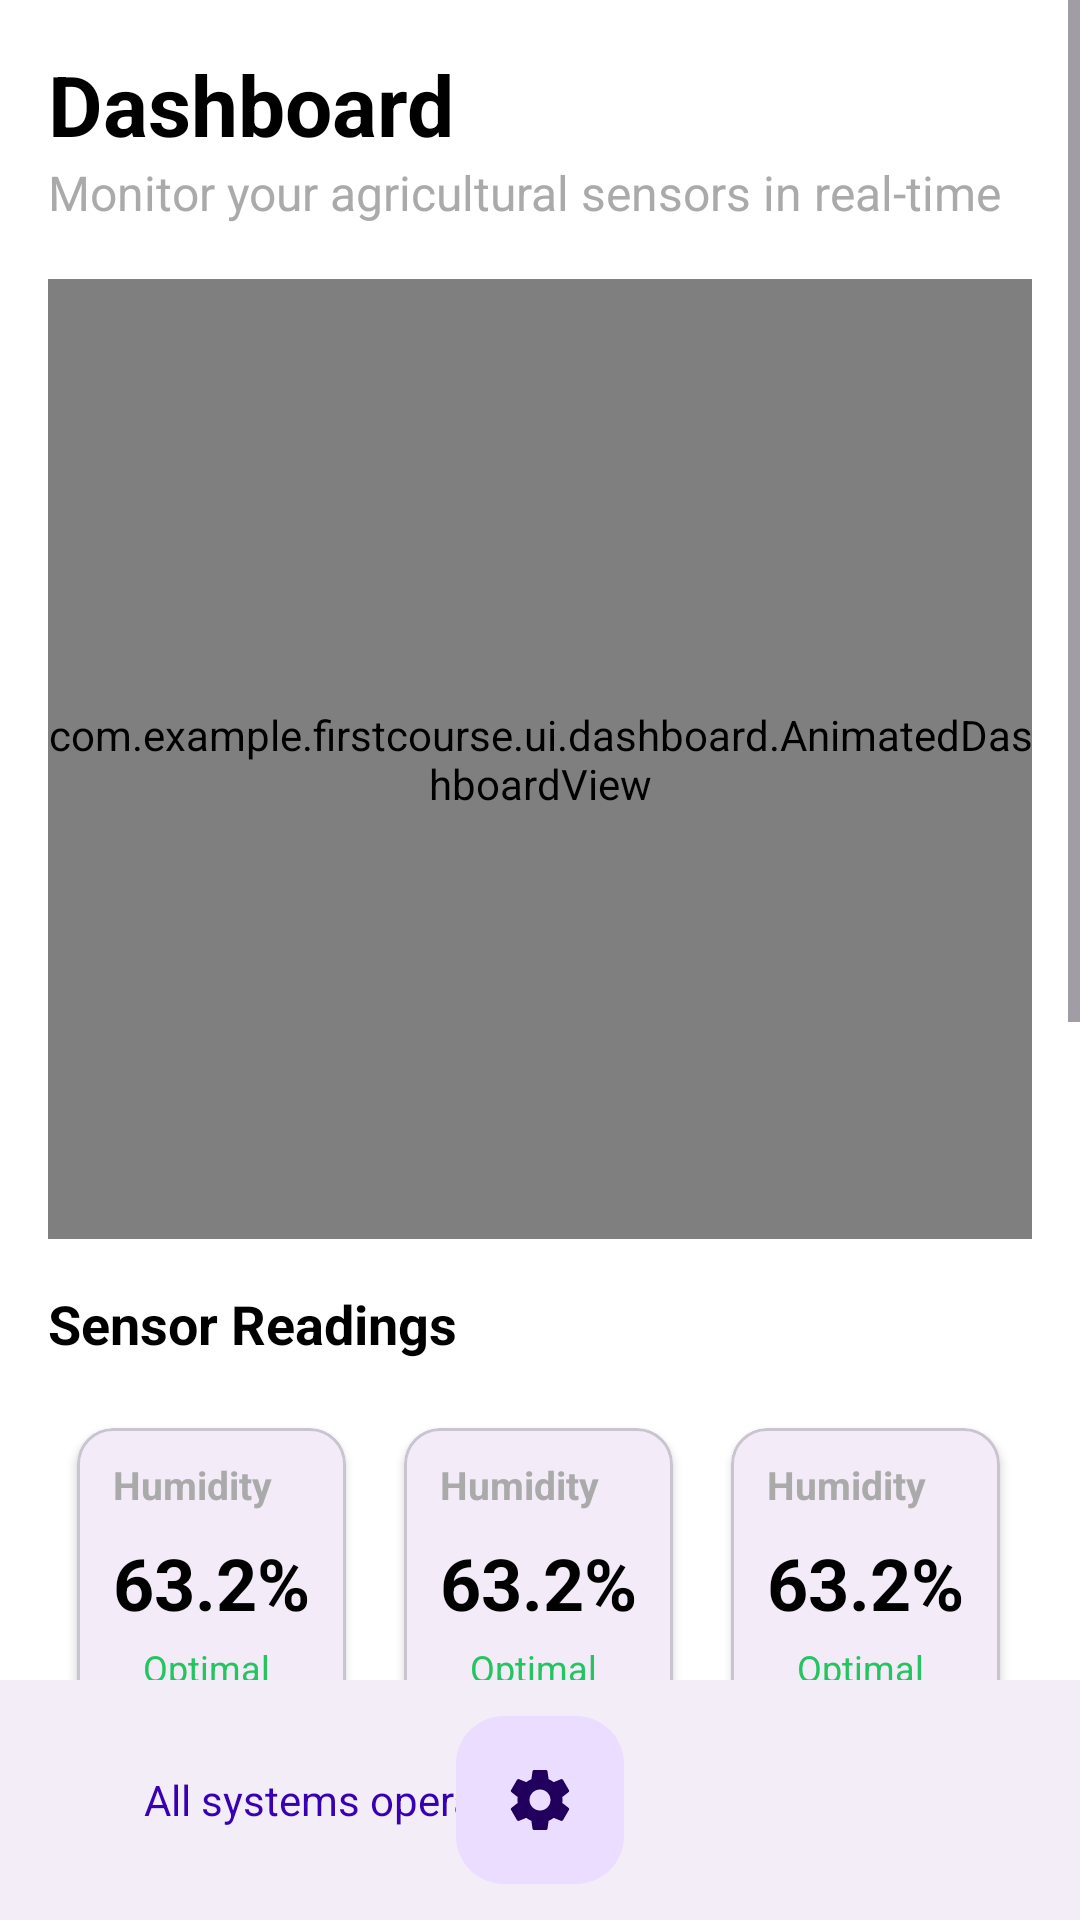

Where to tap for icons on this 1080x1920 app screen, as (x=x, y=y):
settings: (x=540, y=1800)
